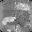people: (2, 16, 17, 26)
